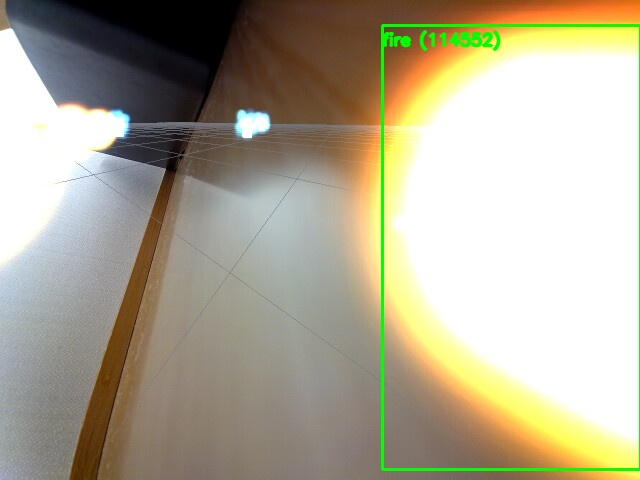fire: (382, 25, 640, 469)
